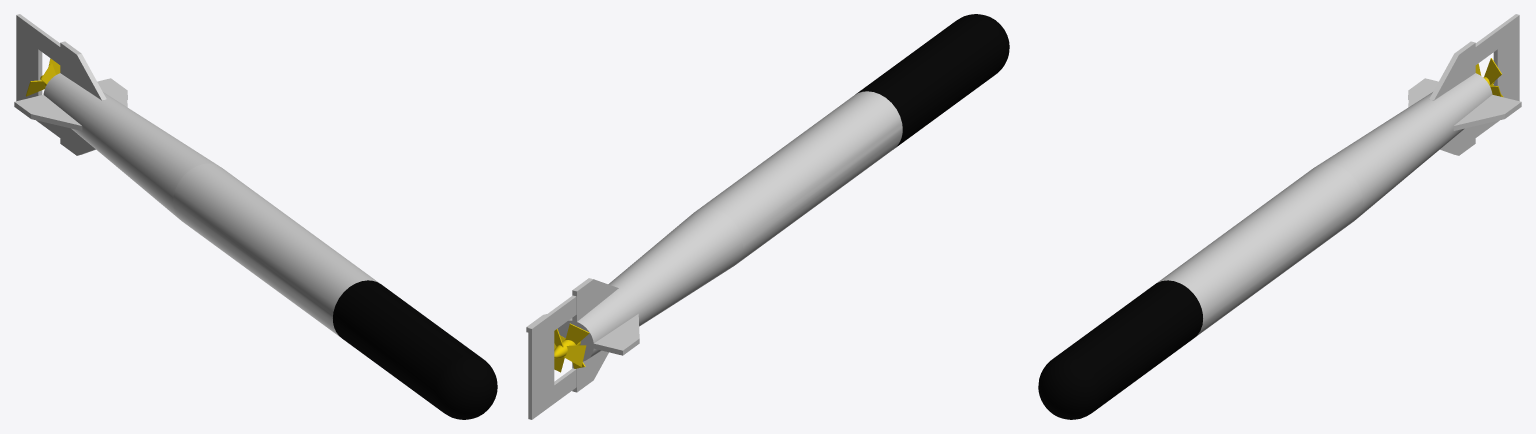
Rendered from torpedo.fbx.
3 renders of one model, left to right at view 1: azimuth 30°, elevation 25°; view 2: azimuth 150°, elevation 25°; view 3: azimuth 330°, elevation 25°, orthographic.
Visible parts, largest first — view 1: Body3; view 2: Body3, Body7.001; view 3: Body3.
Part boxes in pixels (box(x1,y1,x2,y2)): Body3: box(14, 14, 497, 419); Body3: box(526, 14, 1009, 419); Body7.001: box(554, 328, 586, 372); Body3: box(1038, 14, 1521, 419).
Size of the model in its own units: 10 by 10 by 82.98.
